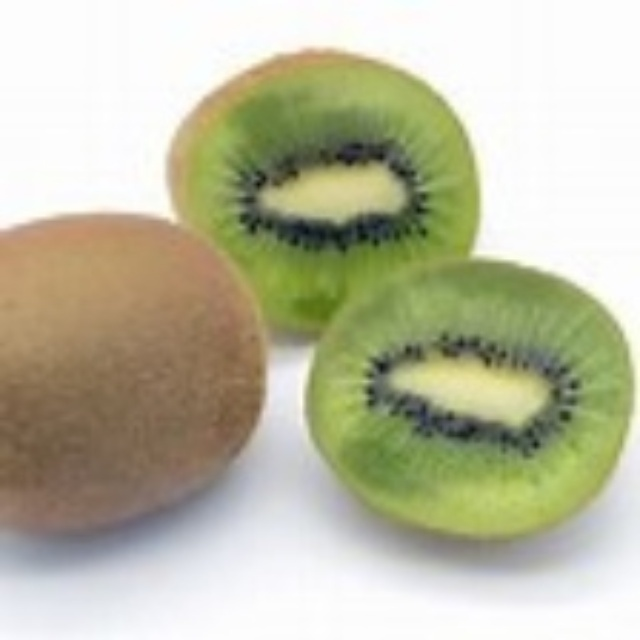kiwi: (294, 250, 639, 540), (173, 39, 477, 330), (3, 211, 256, 530)
